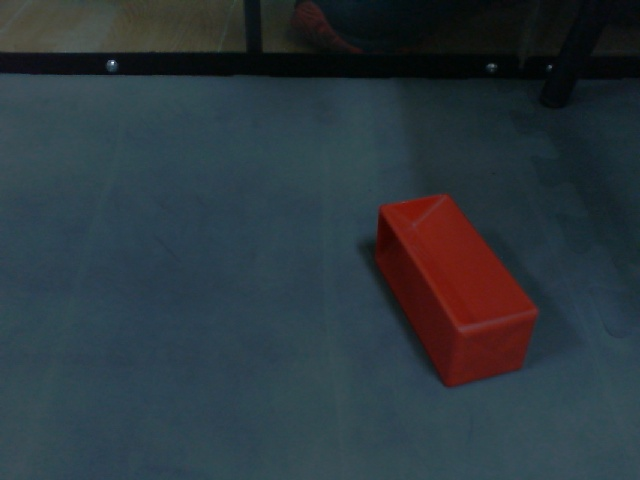RedSample: (372, 192, 541, 389)
